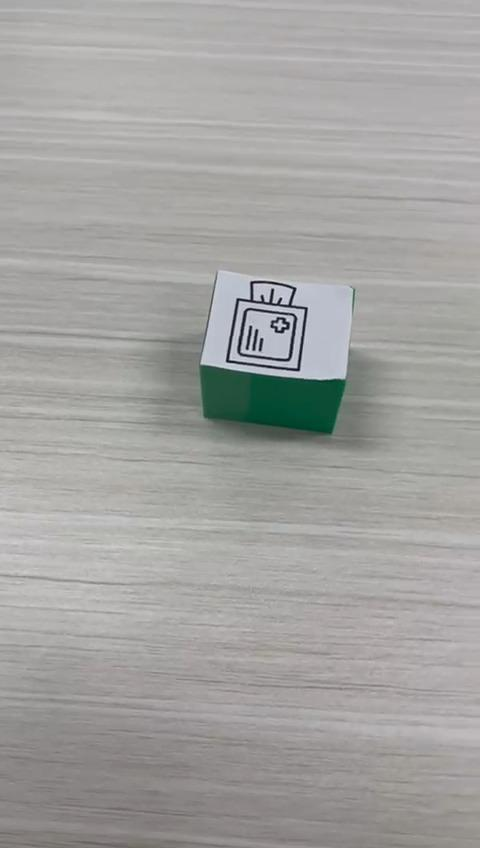Gauze: (198, 268, 355, 435)
